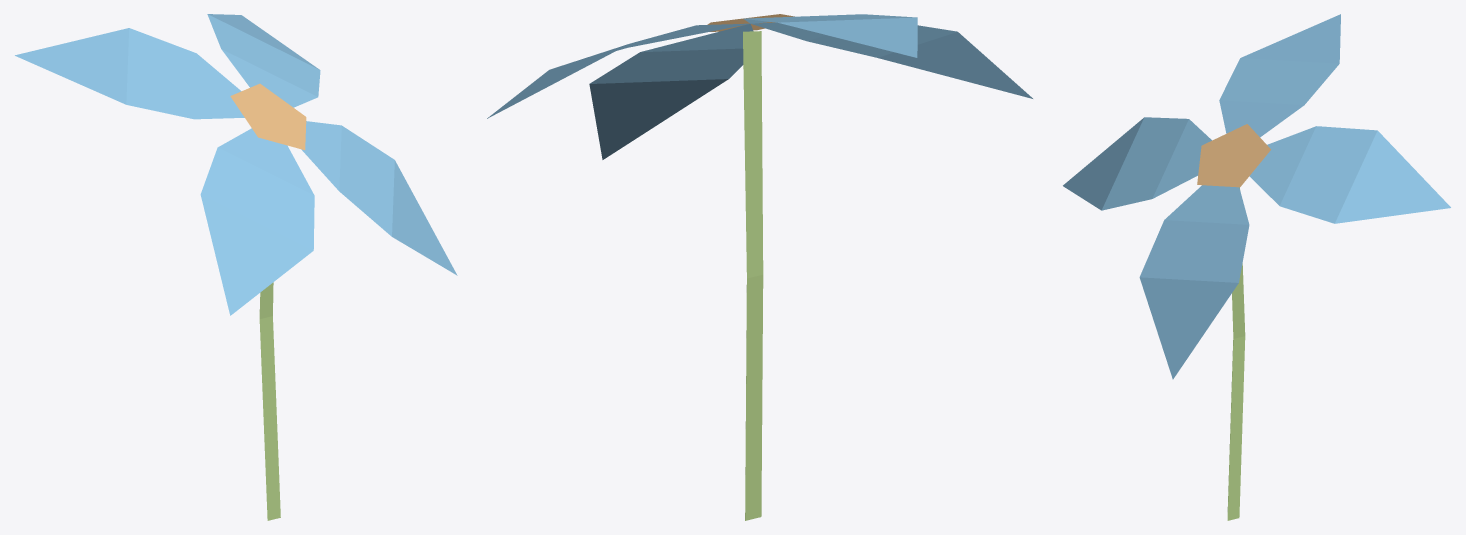
Rendered from Flower_a_TwoS_05.fbx.
3 views of the same model, side by side, from view 1: azimuth 30°, elevation 25°; view 2: azimuth 150°, elevation 25°; view 3: azimuth 270°, elevation 25° (orthographic). The views are drawn at different scales.
Visible parts, largest first — view 1: Flower_a_TwoS_05; view 2: Flower_a_TwoS_05; view 3: Flower_a_TwoS_05.
Part boxes in pixels (bbox=[...]): Flower_a_TwoS_05: bbox=[15, 14, 457, 520]; Flower_a_TwoS_05: bbox=[487, 14, 1032, 520]; Flower_a_TwoS_05: bbox=[1063, 14, 1450, 520].
Bounding box in the file's own units: 45.62 × 58.12 × 49.
